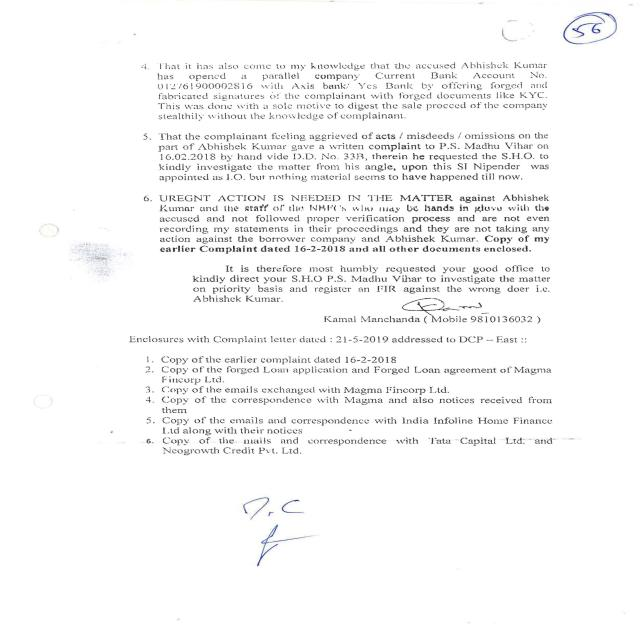page-number: (522, 0, 640, 61)
